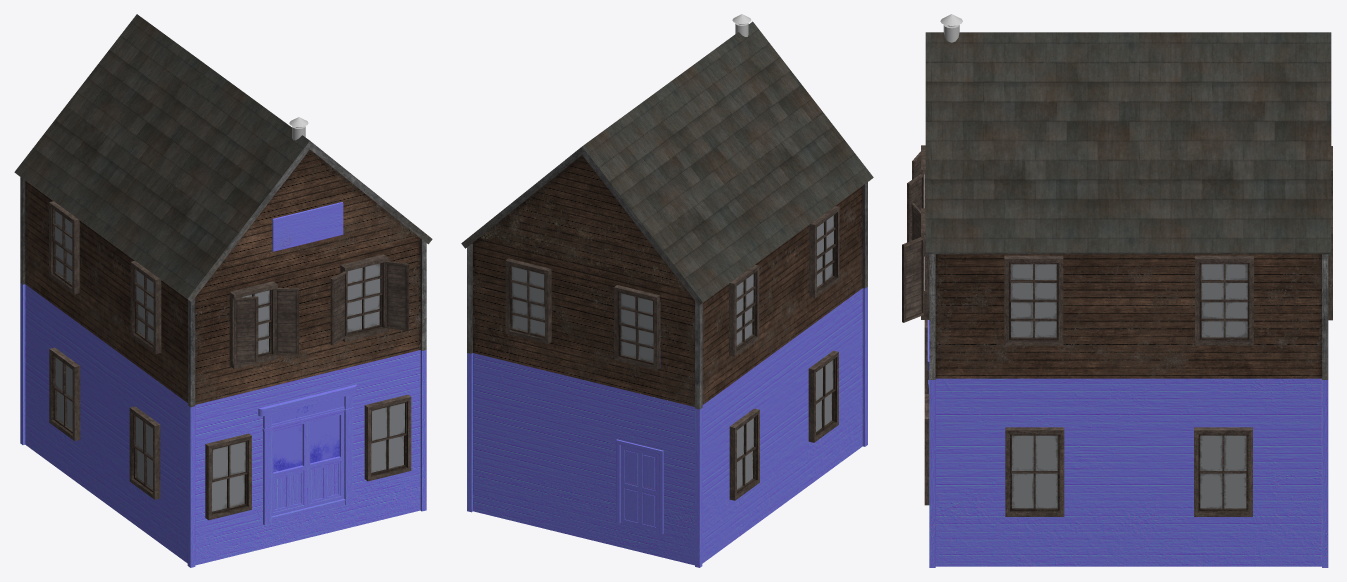
File: RoofTop_Background11.fbx
3 renders of one model, left to right at view 1: azimuth 30°, elevation 25°; view 2: azimuth 150°, elevation 25°; view 3: azimuth 270°, elevation 25°, orthographic. The views are drawn at different scales.
Visible parts, largest first — view 1: t_002_br001_1, t_002_b001_2_1, t_002_b002_2_1, window_001_4, window_001_3, window_003_3_Full, window_001_1, window_001_2, window_002_4__1_, ad_003, window_002_2__1_, window_003_2_Full (+4 smaller); view 2: t_002_br001_1, t_002_b001_2_1, t_002_b002_2_1, t002_door001, window_002_1__1_, window_002_3__1_, window_001_2, window_001_1, window_002_4__1_, window_002_2__1_; view 3: t_002_br001_1, t_002_b001_2_1, t_002_b002_2_1, window_002_3, window_001_1__1_, window_002_4, window_001_2__1_, window_003_2_1, window_003_2, window_001_4, window_003_3_Full.
Part boxes in pixels (bbox=[...]): t_002_br001_1: bbox=[14, 14, 432, 301]; t_002_b001_2_1: bbox=[20, 283, 426, 567]; t_002_b002_2_1: bbox=[20, 177, 426, 407]; window_001_4: bbox=[364, 394, 411, 481]; window_001_3: bbox=[205, 433, 251, 520]; window_003_3_Full: bbox=[340, 254, 388, 342]; window_001_1: bbox=[129, 406, 160, 499]; window_001_2: bbox=[49, 347, 80, 440]; window_002_4__1_: bbox=[130, 261, 161, 353]; ad_003: bbox=[272, 202, 343, 251]; window_002_2__1_: bbox=[49, 201, 79, 294]; window_003_2_Full: bbox=[229, 281, 277, 369]; t_002_br001_1: bbox=[461, 21, 873, 305]; t_002_b001_2_1: bbox=[467, 287, 867, 567]; t_002_b002_2_1: bbox=[467, 182, 867, 409]; t002_door001: bbox=[616, 439, 663, 533]; window_002_1__1_: bbox=[505, 258, 551, 343]; window_002_3__1_: bbox=[614, 285, 659, 370]; window_001_2: bbox=[729, 408, 759, 500]; window_001_1: bbox=[808, 350, 838, 442]; window_002_4__1_: bbox=[809, 206, 839, 297]; window_002_2__1_: bbox=[729, 265, 759, 356]; t_002_br001_1: bbox=[925, 32, 1331, 255]; t_002_b001_2_1: bbox=[927, 320, 1328, 567]; t_002_b002_2_1: bbox=[929, 254, 1328, 379]; window_002_3: bbox=[1004, 255, 1063, 345]; window_001_1__1_: bbox=[1005, 427, 1064, 516]; window_002_4: bbox=[1195, 255, 1253, 345]; window_001_2__1_: bbox=[1194, 427, 1252, 516]; window_003_2_1: bbox=[902, 237, 924, 322]; window_003_2: bbox=[907, 174, 924, 242]; window_001_4: bbox=[924, 394, 929, 505]; window_003_3_Full: bbox=[921, 208, 929, 319].
Size of the model in its own units: 821 by 1328 by 1065.
